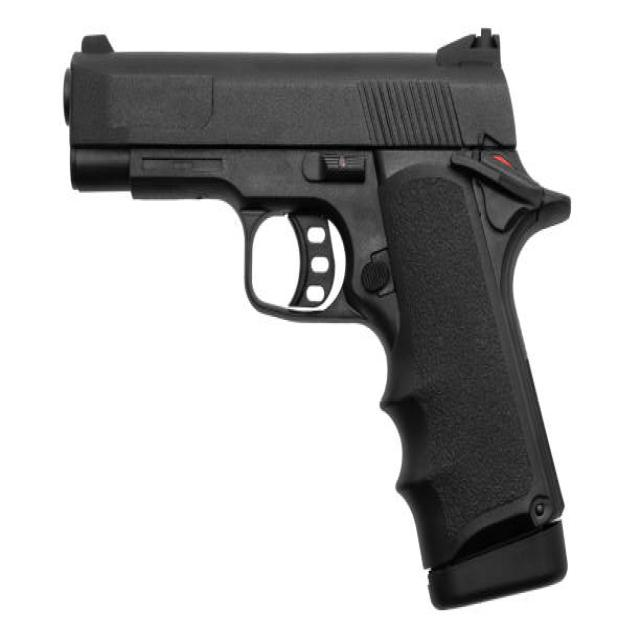pistol: (55, 17, 581, 618)
